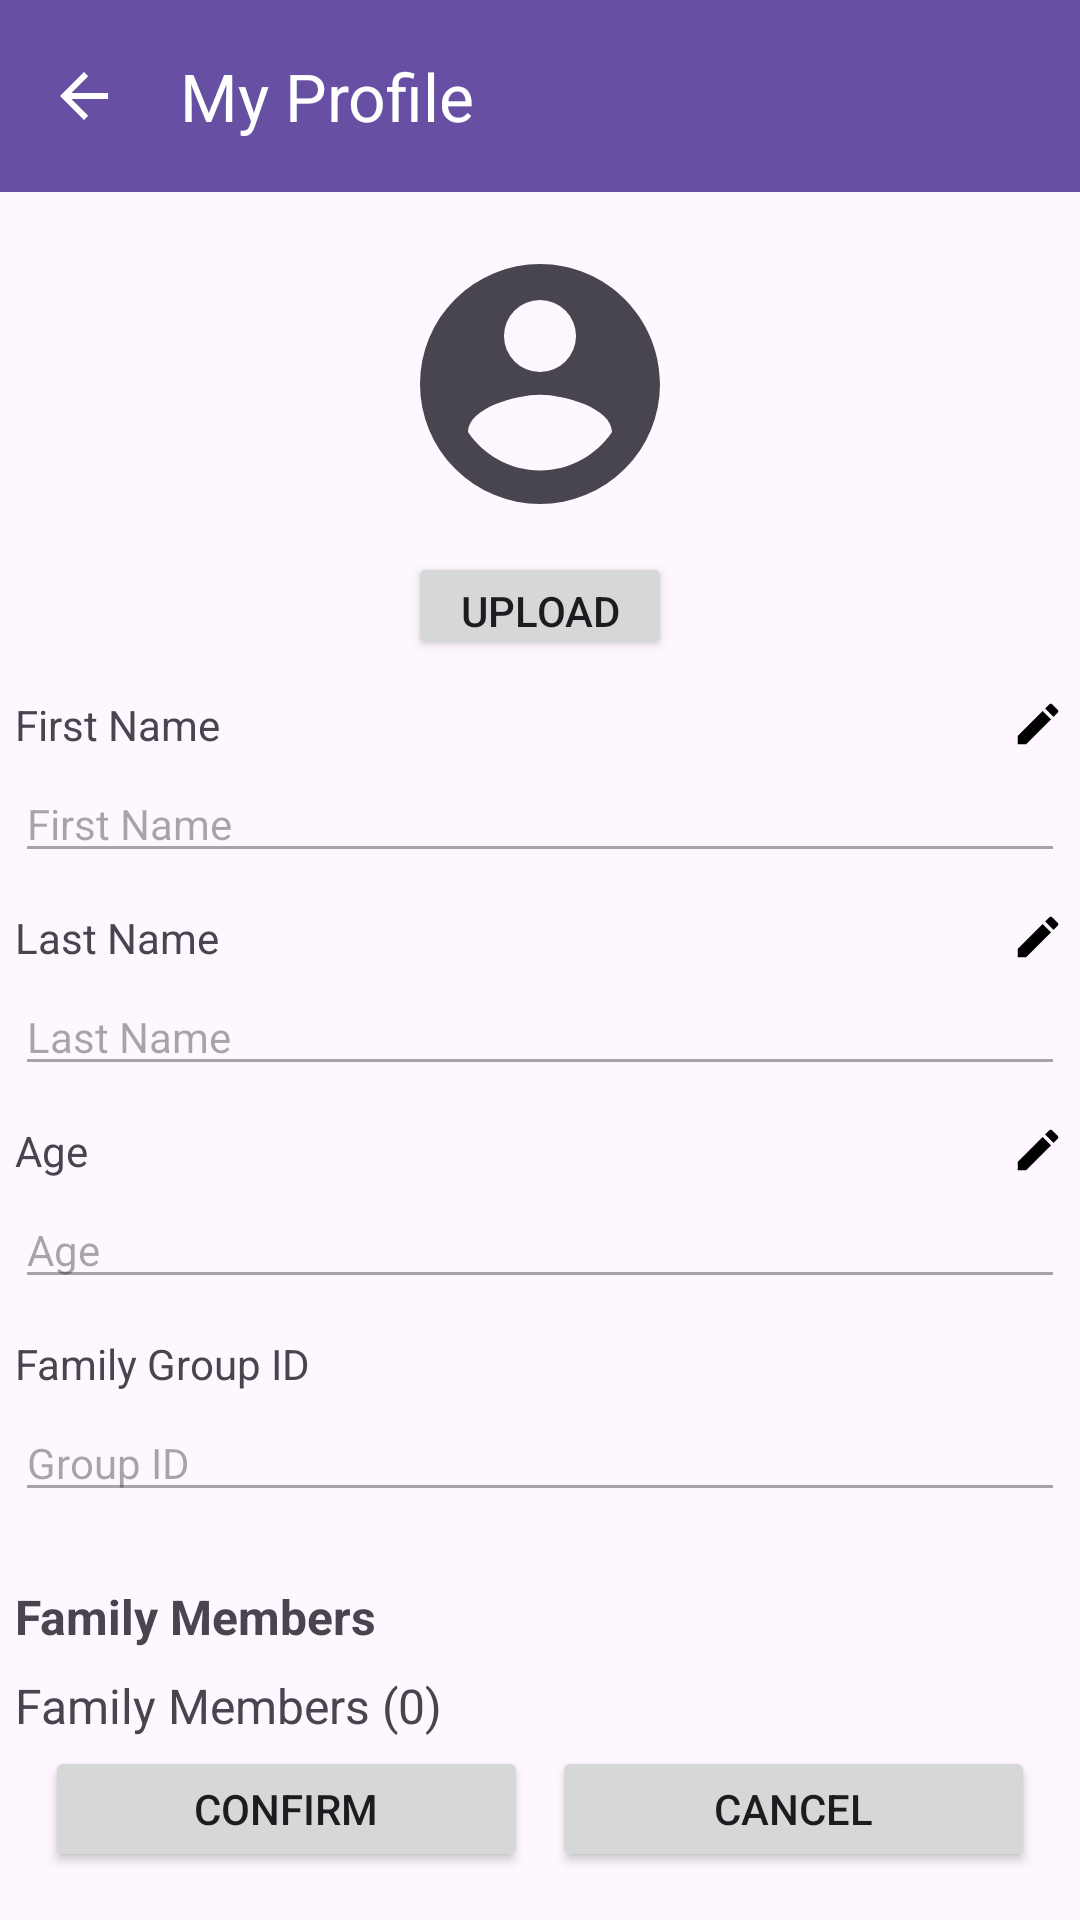

Where to tap for icons on this 1080*1920 app screen, as [x,y]:
Edit Age: [1038,1150]
